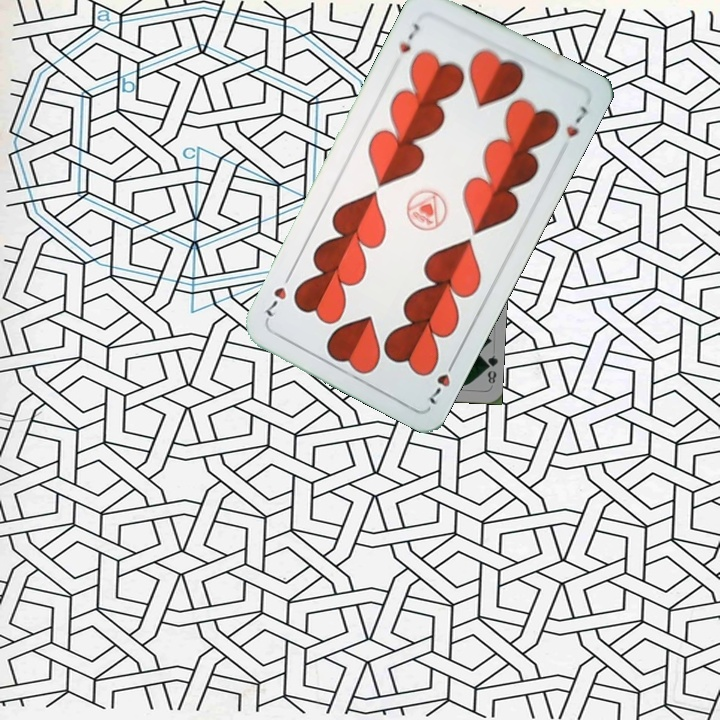G8: (479, 351, 500, 386)
H7: (425, 354, 459, 407), (395, 19, 423, 56)
